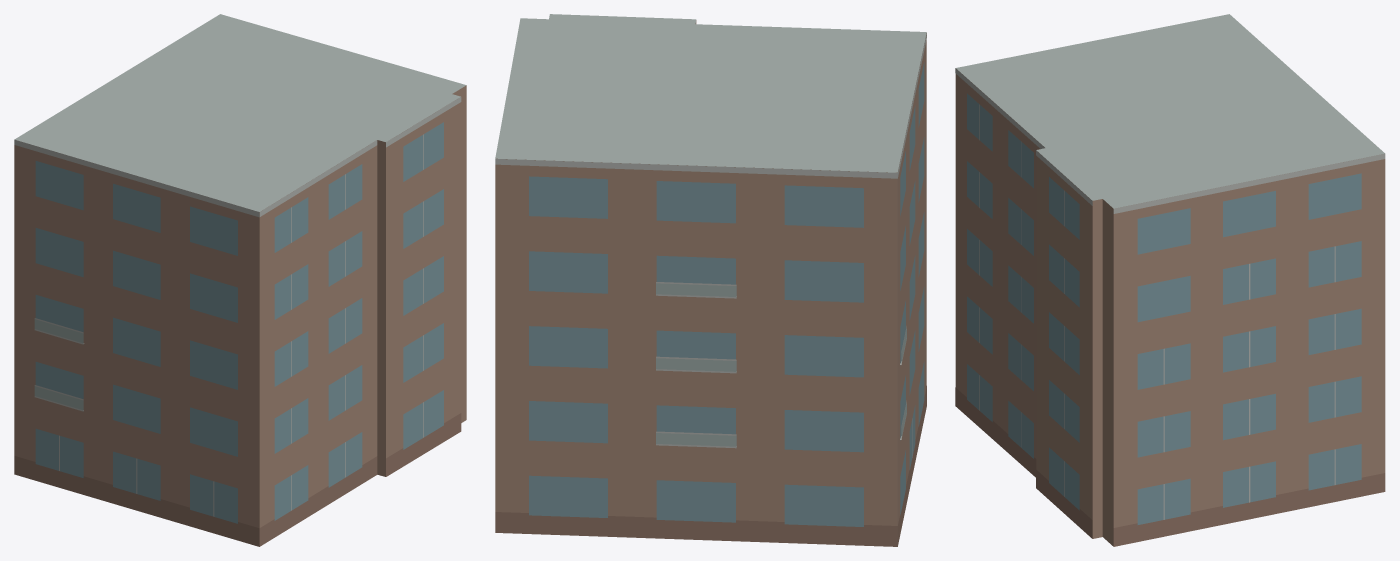
Rendered from survey-upis-32738813.glb.
3 renders of one model, left to right at view 1: azimuth 30°, elevation 25°; view 2: azimuth 150°, elevation 25°; view 3: azimuth 270°, elevation 25°, orthographic. The views are drawn at different scales.
Visible parts, largest first — view 1: survey-upis-32738813.tmp; view 2: survey-upis-32738813.tmp; view 3: survey-upis-32738813.tmp.
Boxes of the visible parts, x1=… form: survey-upis-32738813.tmp: x1=14, y1=14, x2=466, y2=546; survey-upis-32738813.tmp: x1=495, y1=14, x2=926, y2=546; survey-upis-32738813.tmp: x1=955, y1=14, x2=1385, y2=546.
Bounding box in the file's own units: 19.02 × 15.4 × 17.75.
